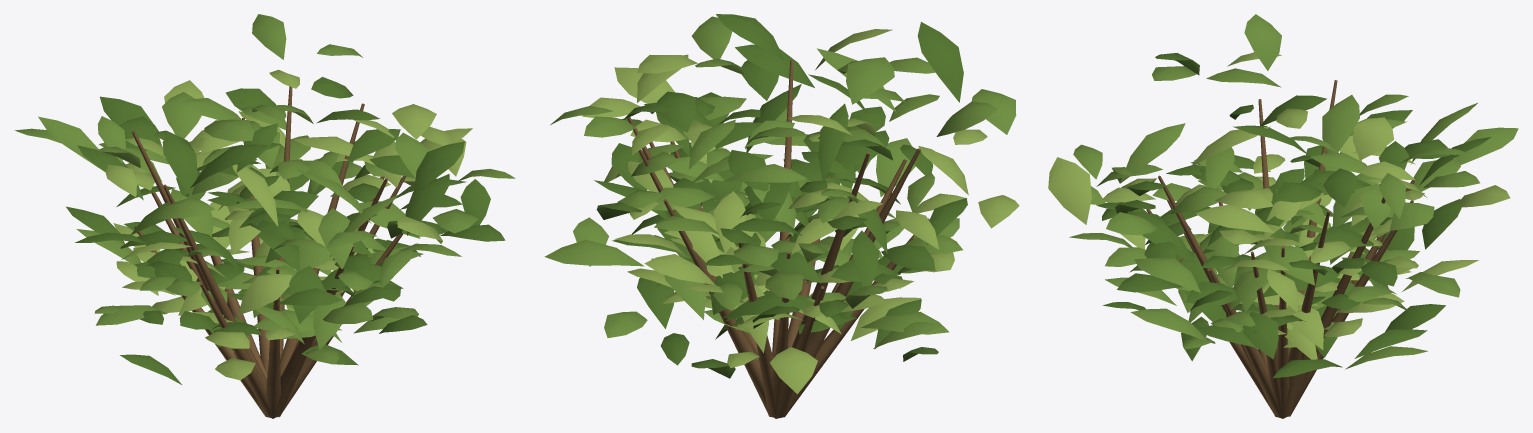
Rendered from shrub-rounded-090.glb.
3 renders of one model, left to right at view 1: azimuth 30°, elevation 25°; view 2: azimuth 150°, elevation 25°; view 3: azimuth 270°, elevation 25°, orthographic. The views are drawn at different scales.
Parts seen in each view (by area): view 1: shrub-rounded-090 / N05 / olive leaf shade, shrub-rounded-090 / N06 / olive leaf mid, shrub-rounded-090 / N07 / sunlit young leaf, shrub-rounded-090 / N03 / warm ridged bark; view 2: shrub-rounded-090 / N05 / olive leaf shade, shrub-rounded-090 / N06 / olive leaf mid, shrub-rounded-090 / N07 / sunlit young leaf, shrub-rounded-090 / N03 / warm ridged bark; view 3: shrub-rounded-090 / N06 / olive leaf mid, shrub-rounded-090 / N05 / olive leaf shade, shrub-rounded-090 / N07 / sunlit young leaf, shrub-rounded-090 / N03 / warm ridged bark.
Part boxes in pixels (left/top/right/bottom): shrub-rounded-090 / N05 / olive leaf shade: left=66, top=77, right=505, bottom=384; shrub-rounded-090 / N06 / olive leaf mid: left=14, top=14, right=515, bottom=364; shrub-rounded-090 / N07 / sunlit young leaf: left=105, top=69, right=472, bottom=380; shrub-rounded-090 / N03 / warm ridged bark: left=131, top=86, right=406, bottom=418; shrub-rounded-090 / N05 / olive leaf shade: left=594, top=14, right=967, bottom=378; shrub-rounded-090 / N06 / olive leaf mid: left=544, top=16, right=1016, bottom=348; shrub-rounded-090 / N07 / sunlit young leaf: left=582, top=29, right=1019, bottom=393; shrub-rounded-090 / N03 / warm ridged bark: left=627, top=60, right=929, bottom=418; shrub-rounded-090 / N06 / olive leaf mid: left=1069, top=14, right=1518, bottom=369; shrub-rounded-090 / N05 / olive leaf shade: left=1096, top=53, right=1491, bottom=378; shrub-rounded-090 / N07 / sunlit young leaf: left=1048, top=52, right=1510, bottom=359; shrub-rounded-090 / N03 / warm ridged bark: left=1146, top=80, right=1415, bottom=418.
Bounding box in the file's own units: 1.01 × 0.8682 × 1.14.
4 materials, 1 textured.
